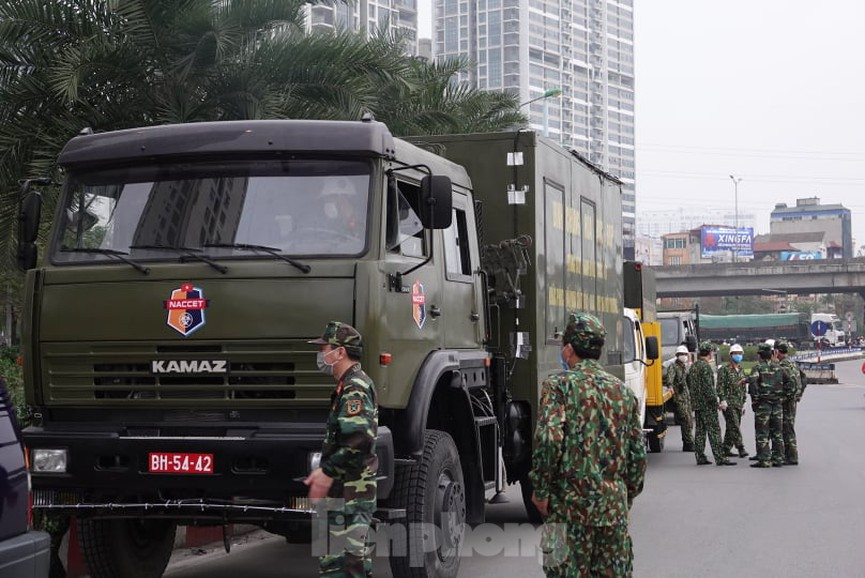plate: (146, 447, 217, 478)
